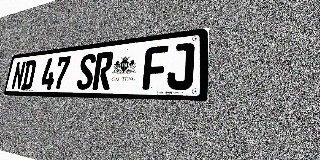4: (40, 57, 58, 90)
7: (52, 56, 71, 90)
D: (21, 60, 37, 90)
F: (142, 45, 168, 90)
J: (166, 42, 195, 90)
N: (11, 61, 26, 90)
R: (92, 51, 114, 90)
S: (76, 53, 97, 90)
